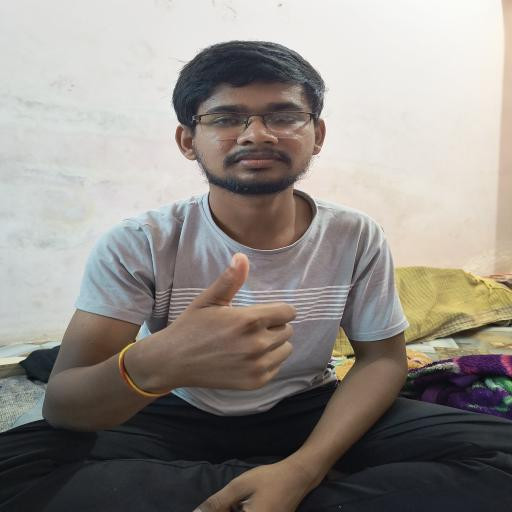Good Morning: (127, 241, 332, 407)
